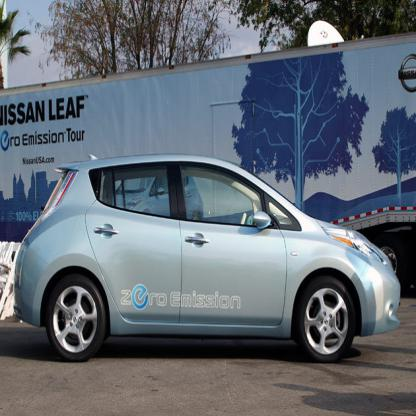Vehicle: (16, 155, 403, 362)
